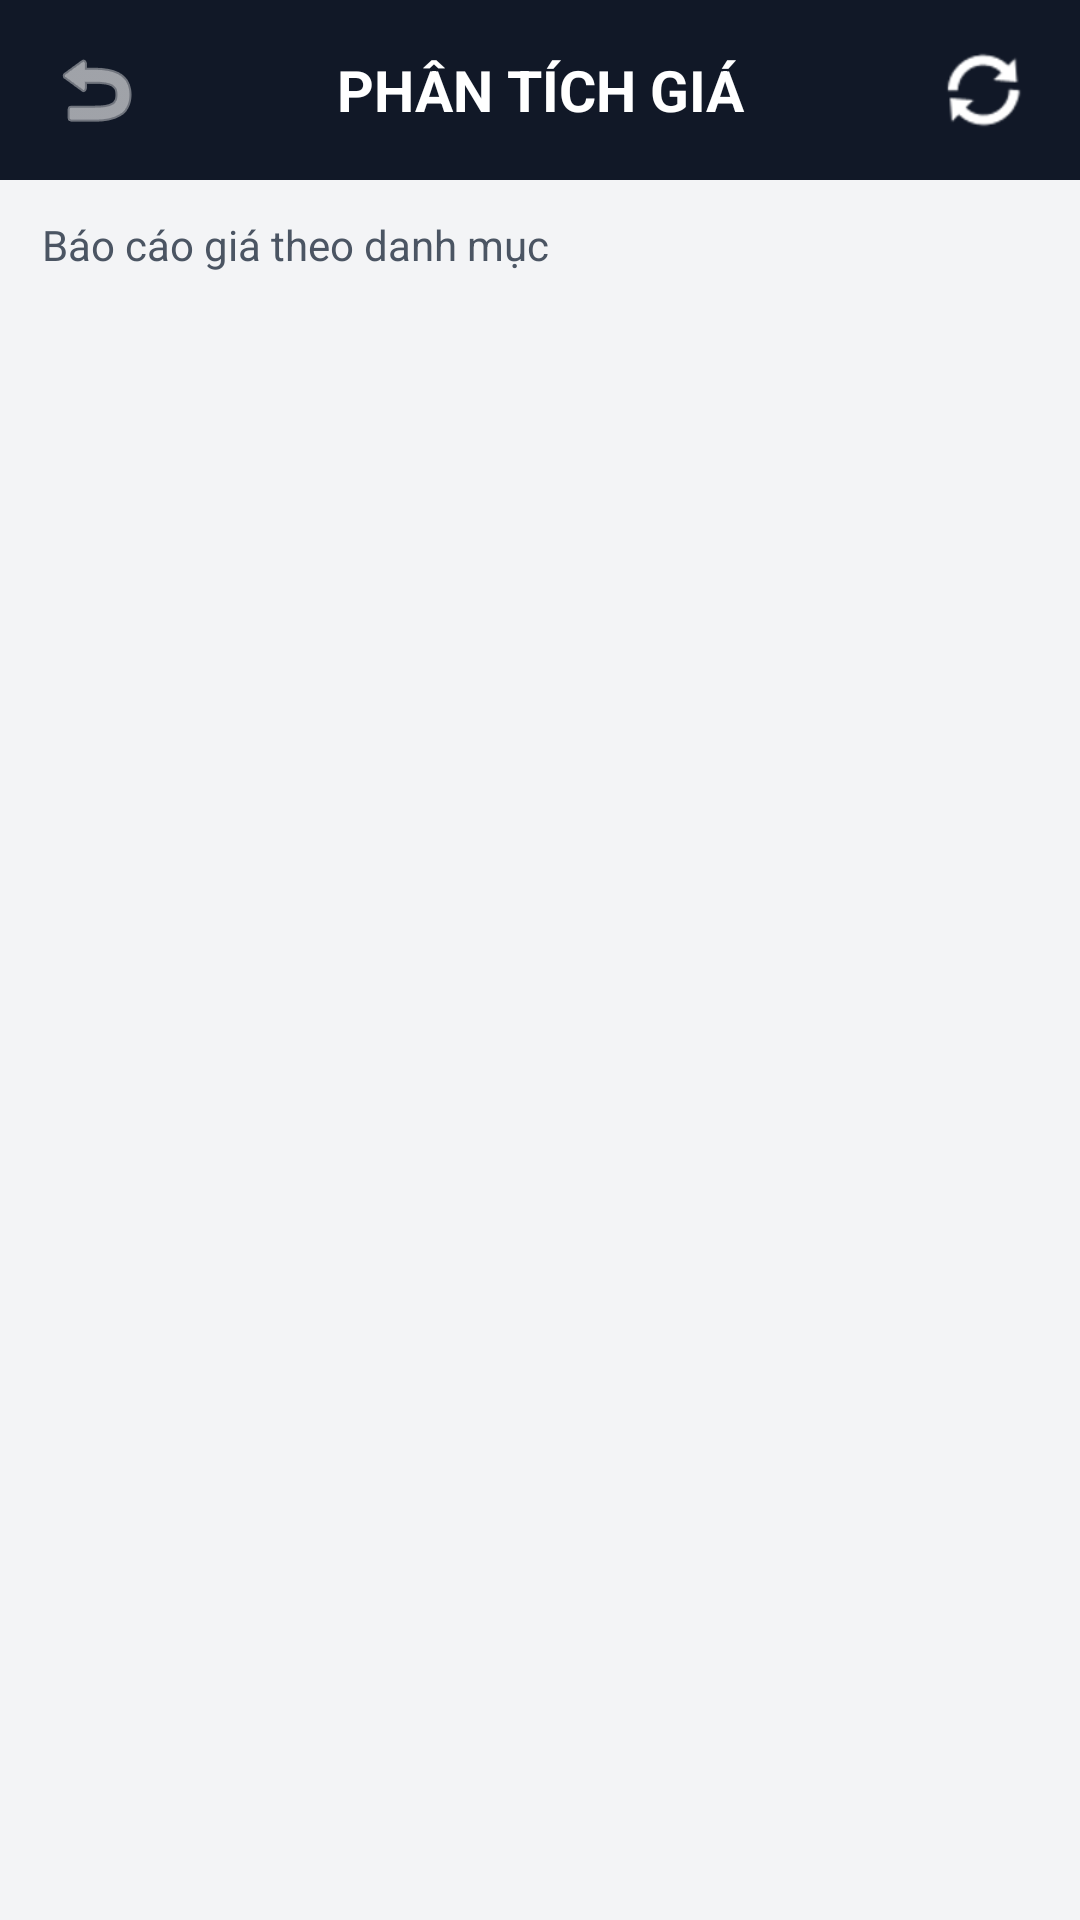

Icons on this 1080px×1920px Android screen, each with the point to tap as point (x, y):
Quay lại: point (97, 90)
Tải lại báo cáo: point (984, 90)
